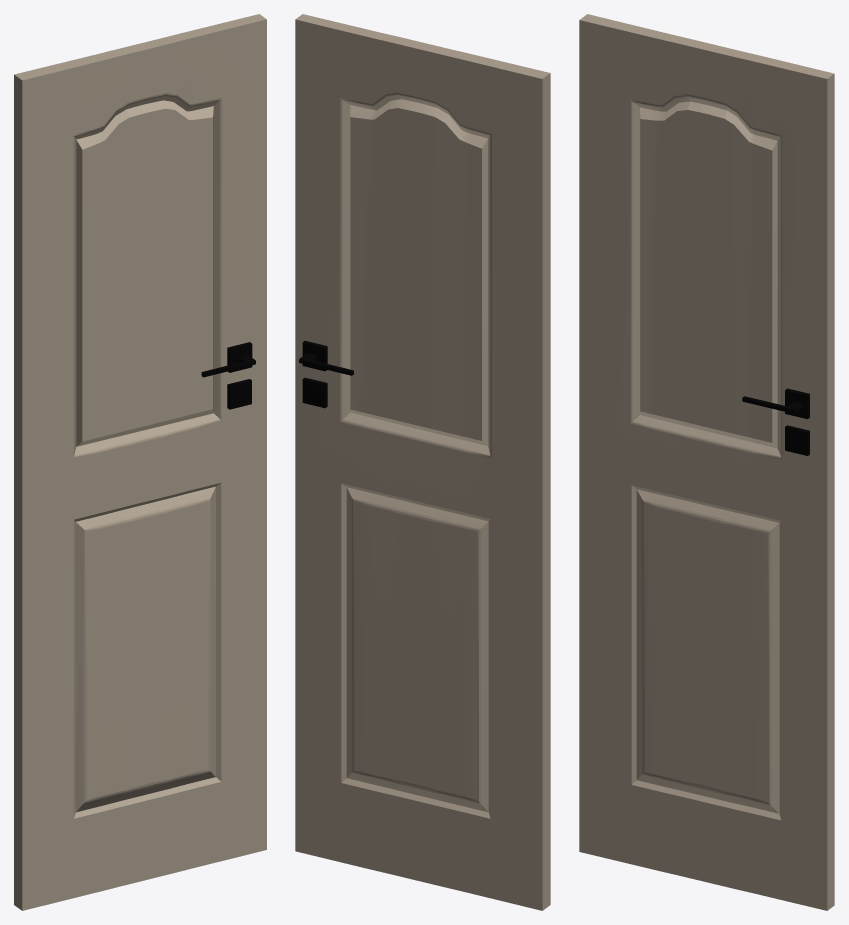
The model's file is SC_2_3a_door.glb.
The picture shows the model from 3 angles, left to right: view 1: azimuth 30°, elevation 25°; view 2: azimuth 150°, elevation 25°; view 3: azimuth 330°, elevation 25°; orthographic projection.
Visible parts, largest first — view 1: SC_2__3a_door_; view 2: SC_2__3a_door_; view 3: SC_2__3a_door_.
Part boxes in pixels (x1,y1,x2,y2): SC_2__3a_door_: [14, 14, 266, 910]; SC_2__3a_door_: [295, 14, 550, 910]; SC_2__3a_door_: [579, 14, 834, 910].
Size of the model in its own units: 0.5466 by 1.76 by 0.1089.
Materials: 1 (1 with a texture image).
